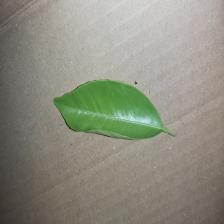healthy: (54, 54, 185, 194)
